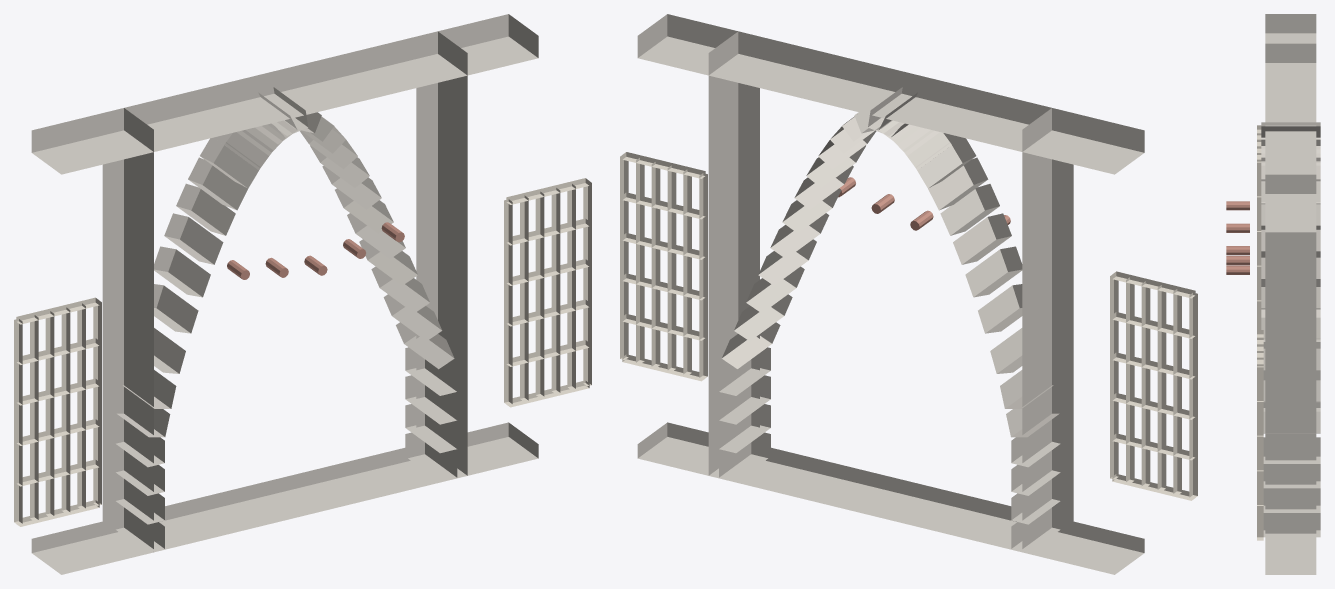
Rendered from mughal_cusped_arch.glb.
The picture shows the model from 3 angles, left to right: view 1: azimuth 30°, elevation 25°; view 2: azimuth 150°, elevation 25°; view 3: azimuth 270°, elevation 25°; orthographic projection. The views are drawn at different scales.
Visible parts, largest first — view 1: mughal_cusped_arch; view 2: mughal_cusped_arch; view 3: mughal_cusped_arch.
Part boxes in pixels (x1=…): mughal_cusped_arch: x1=14, y1=14, x2=591, y2=574; mughal_cusped_arch: x1=620, y1=14, x2=1197, y2=574; mughal_cusped_arch: x1=1226, y1=14, x2=1320, y2=574.
Bounding box in the file's own units: 6.68 × 4.7 × 1.11.
